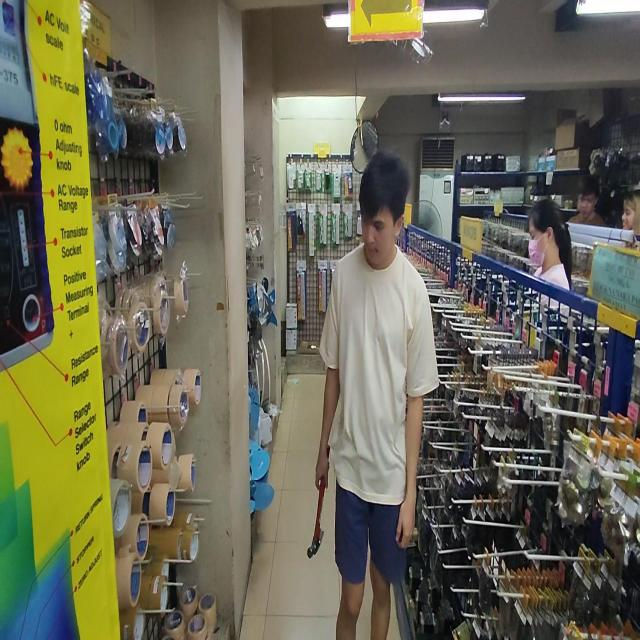hammer: (307, 443, 330, 560)
